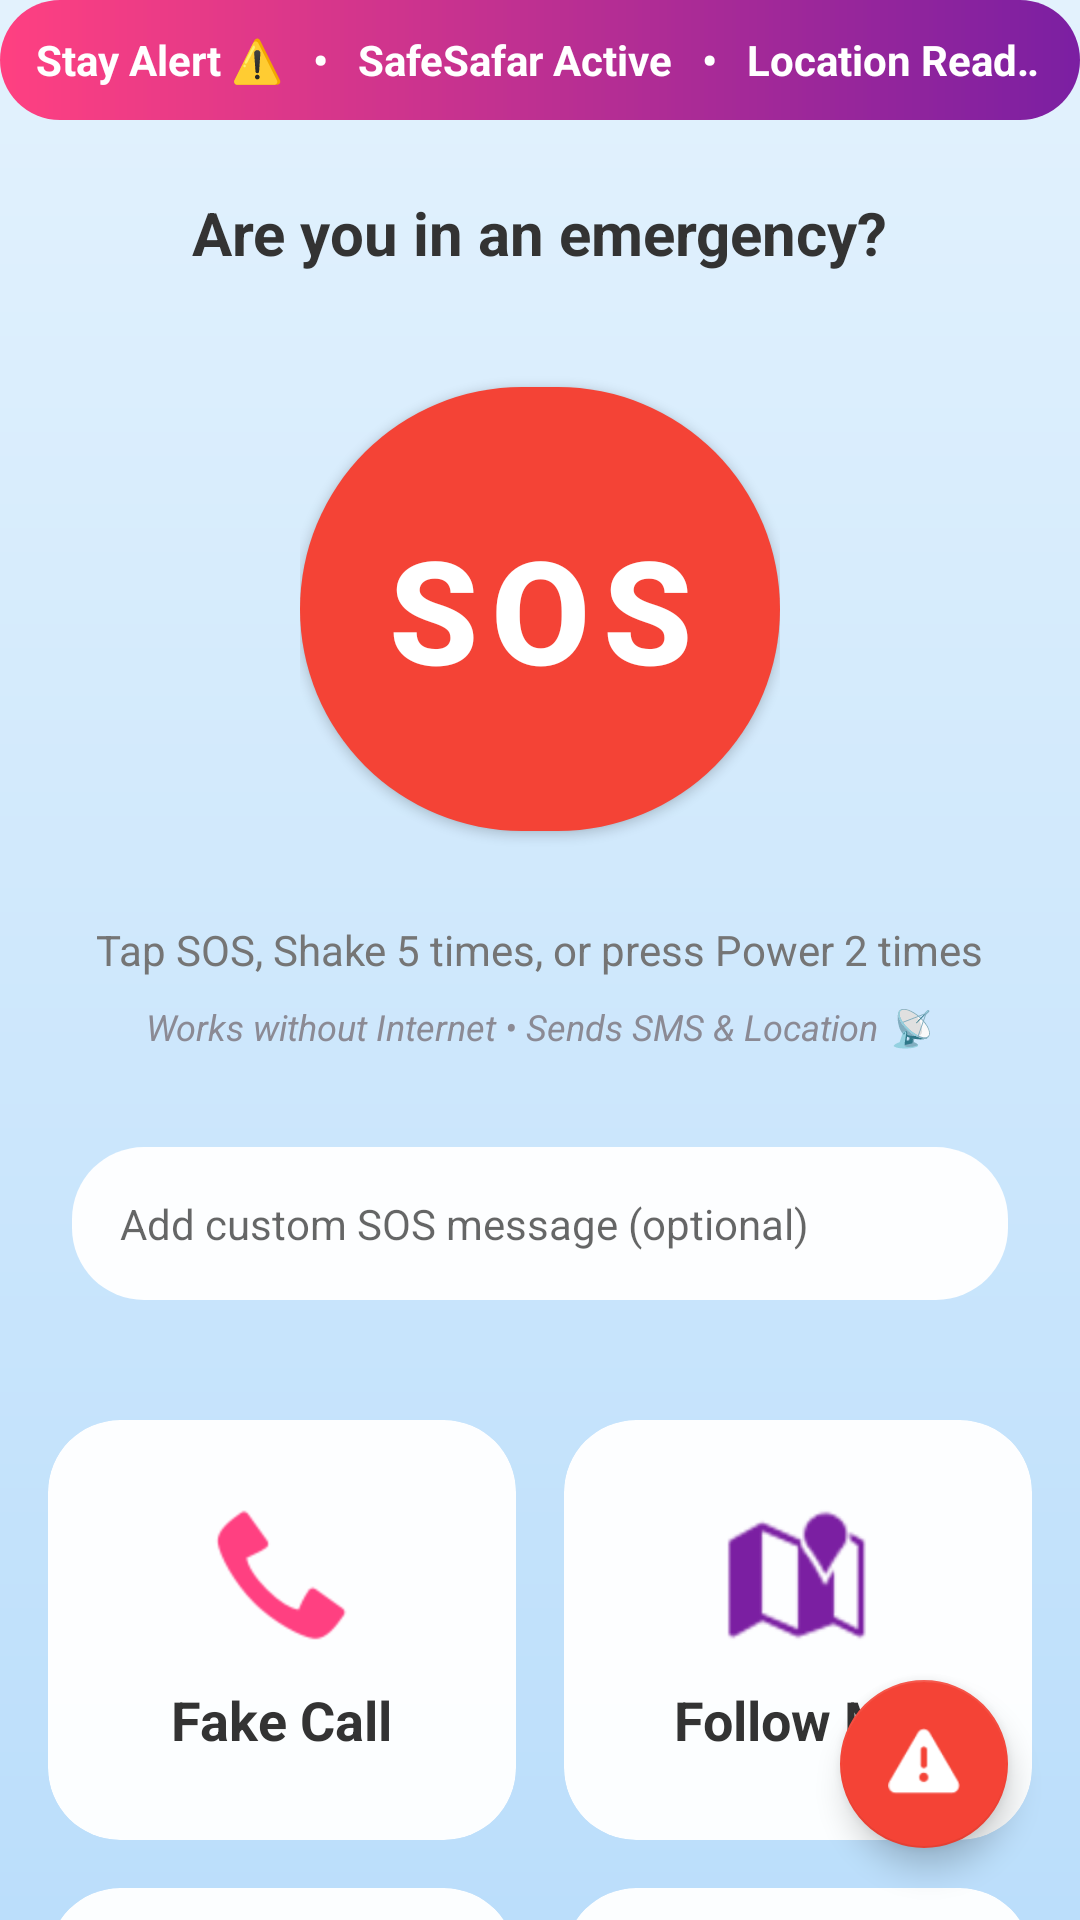

Where to tap for icons on this 1080 x 1920 app screen, as [x,y]:
alert: [924,1764]
map: [797,1575]
phone call: [281,1575]
